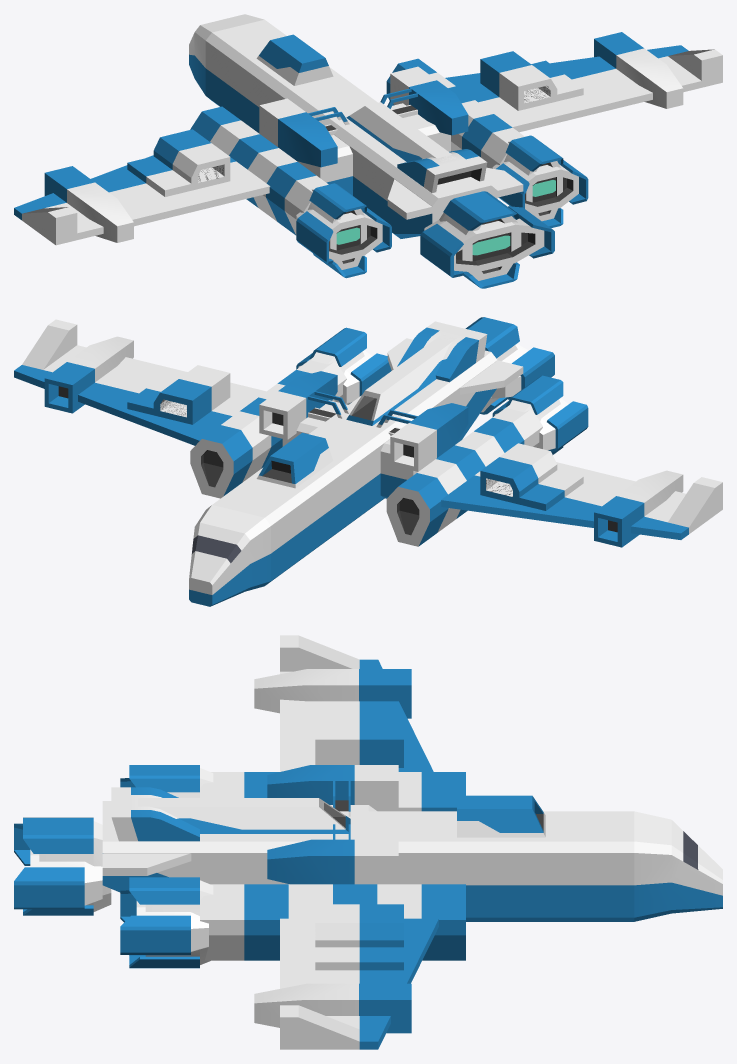
File: complexRocket.obj
3 views of the same model, one above another, from view 1: azimuth 30°, elevation 25°; view 2: azimuth 150°, elevation 25°; view 3: azimuth 270°, elevation 25° (orthographic). The views are drawn at different scales.
Visible parts, largest first — view 1: wing_endHigh_45, wing_endHigh_46, engine_high_44, wing_intake_47, plane_body_9, wing_intake_48, engine_high_31, engine_plane_18, engine_high_43, engine_plane_51, engine_plane_52, engine_plane_17 (+23 smaller); view 2: wing_endHigh_46, wing_endHigh_45, plane_cockpitDown_8, engine_barrel_37, plane_body_9, wing_intake_47, engine_barrel_38, wing_intake_48, plane_body_11, engine_intake_24, engine_plane_18, engine_plane_51 (+22 smaller); view 3: plane_body_9, wing_endHigh_45, wing_endHigh_46, plane_cockpitDown_8, plane_body_10, engine_intake_24, engine_barrel_33, wing_intake_48, engine_plane_17, engine_plane_51, engine_plane_52, plane_body_11 (+17 smaller).
Boxes of the visible parts, <box> form: wing_endHigh_45: <box>445,45,722,132</box>; wing_endHigh_46: <box>14,155,270,245</box>; engine_high_44: <box>420,206,554,277</box>; wing_intake_47: <box>127,129,230,196</box>; plane_body_9: <box>205,19,286,121</box>; wing_intake_48: <box>480,51,583,110</box>; engine_high_31: <box>296,208,391,264</box>; engine_plane_18: <box>259,98,337,167</box>; engine_high_43: <box>439,191,521,288</box>; engine_plane_51: <box>44,166,133,242</box>; engine_plane_52: <box>594,32,683,108</box>; engine_plane_17: <box>390,66,468,135</box>; wing_endHigh_46: <box>441,462,722,539</box>; wing_endHigh_45: <box>14,319,266,445</box>; plane_cockpitDown_8: <box>189,505,270,606</box>; engine_barrel_37: <box>190,411,271,498</box>; plane_body_9: <box>212,477,308,584</box>; wing_intake_47: <box>480,443,583,510</box>; engine_barrel_38: <box>386,459,466,546</box>; wing_intake_48: <box>127,365,230,424</box>; plane_body_11: <box>309,422,384,528</box>; engine_intake_24: <box>346,334,456,425</box>; engine_plane_18: <box>390,403,468,471</box>; engine_plane_51: <box>594,470,683,547</box>; plane_body_9: <box>545,811,634,921</box>; wing_endHigh_45: <box>280,918,438,1049</box>; wing_endHigh_46: <box>280,635,433,771</box>; plane_cockpitDown_8: <box>634,811,722,921</box>; plane_body_10: <box>457,811,545,921</box>; engine_intake_24: <box>138,798,350,833</box>; engine_barrel_33: <box>200,884,288,960</box>; wing_intake_48: <box>315,904,403,970</box>; engine_plane_17: <box>267,839,398,884</box>; engine_plane_51: <box>254,669,411,718</box>; engine_plane_52: <box>254,983,411,1033</box>; plane_body_11: <box>368,811,456,884</box>.
Size of the model in its own units: 10.2 by 1.3 by 8.
